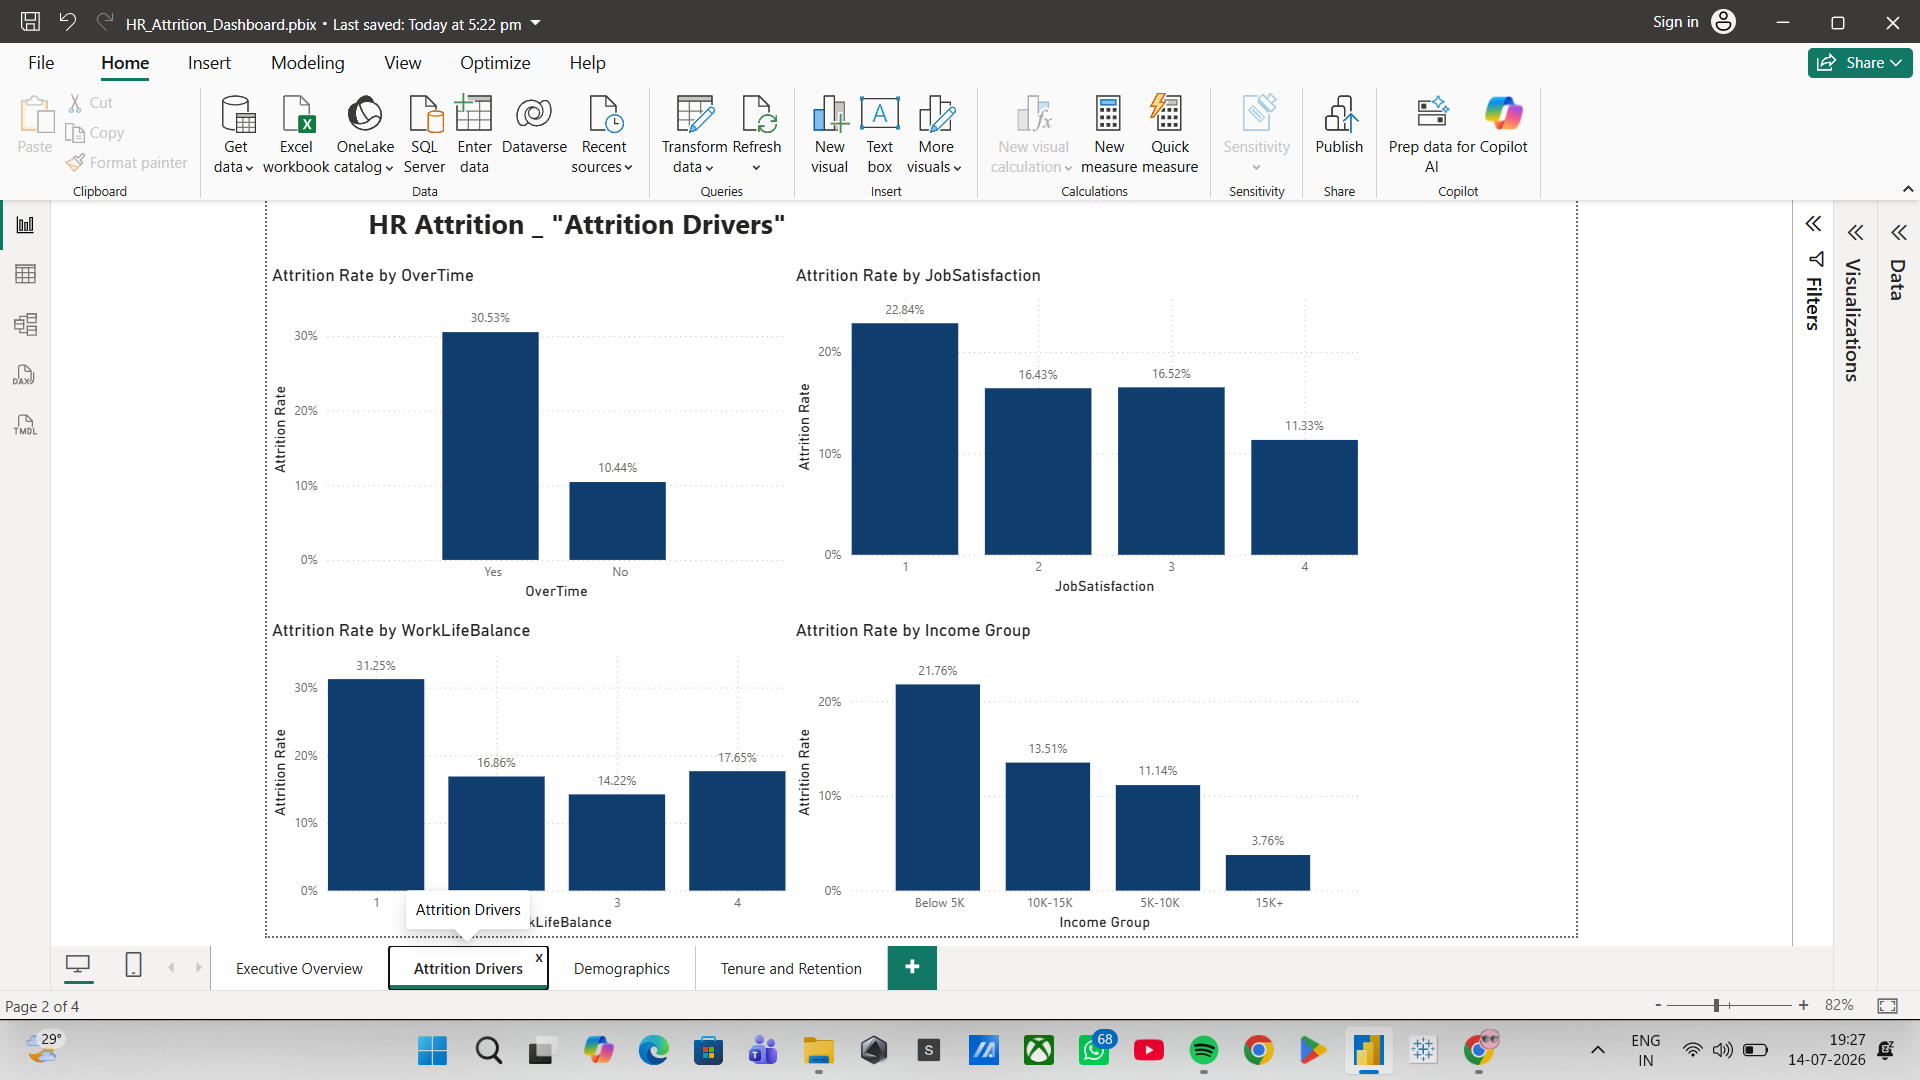

The page's visual inventory and layout, read from the dashboard file:
{"tool":"powerbi","page":{"name":"Attrition Drivers","canvas":[1280,720],"ordinal":1},"visuals":[{"type":"clusteredColumnChart","fields":{"Category":["IBM DATA SET.OverTime"],"Y":["IBM DATA SET.Attrition Rate"]},"box":[0,63.8,512.5,332.5],"z":0},{"type":"clusteredColumnChart","fields":{"Category":["IBM DATA SET.JobSatisfaction"],"Y":["IBM DATA SET.Attrition Rate"]},"box":[512.5,63.8,560,327.5],"z":1000},{"type":"clusteredColumnChart","fields":{"Category":["IBM DATA SET.WorkLifeBalance"],"Y":["IBM DATA SET.Attrition Rate"]},"box":[0,411.2,512.5,308.8],"z":2000},{"type":"clusteredColumnChart","fields":{"Category":["IBM DATA SET.Income Group"],"Y":["IBM DATA SET.Attrition Rate"]},"box":[512.5,411.2,560,308.8],"z":3000},{"type":"textbox","box":[93.8,0,457.5,47.5],"z":4000}]}

Visuals, with their boxes on the page's 1280x720 design canvas (x1, y1, x2, y2). These are canvas units, not pixel positions in the 1920x1080 screenshot, which may show the page scaled, cropped or inside an application window:
clusteredColumnChart - IBM DATA SET.OverTime x IBM DATA SET.Attrition Rate: (0, 64, 512, 396)
clusteredColumnChart - IBM DATA SET.JobSatisfaction x IBM DATA SET.Attrition Rate: (512, 64, 1072, 391)
clusteredColumnChart - IBM DATA SET.WorkLifeBalance x IBM DATA SET.Attrition Rate: (0, 411, 512, 720)
clusteredColumnChart - IBM DATA SET.Income Group x IBM DATA SET.Attrition Rate: (512, 411, 1072, 720)
textbox: (94, 0, 551, 48)
